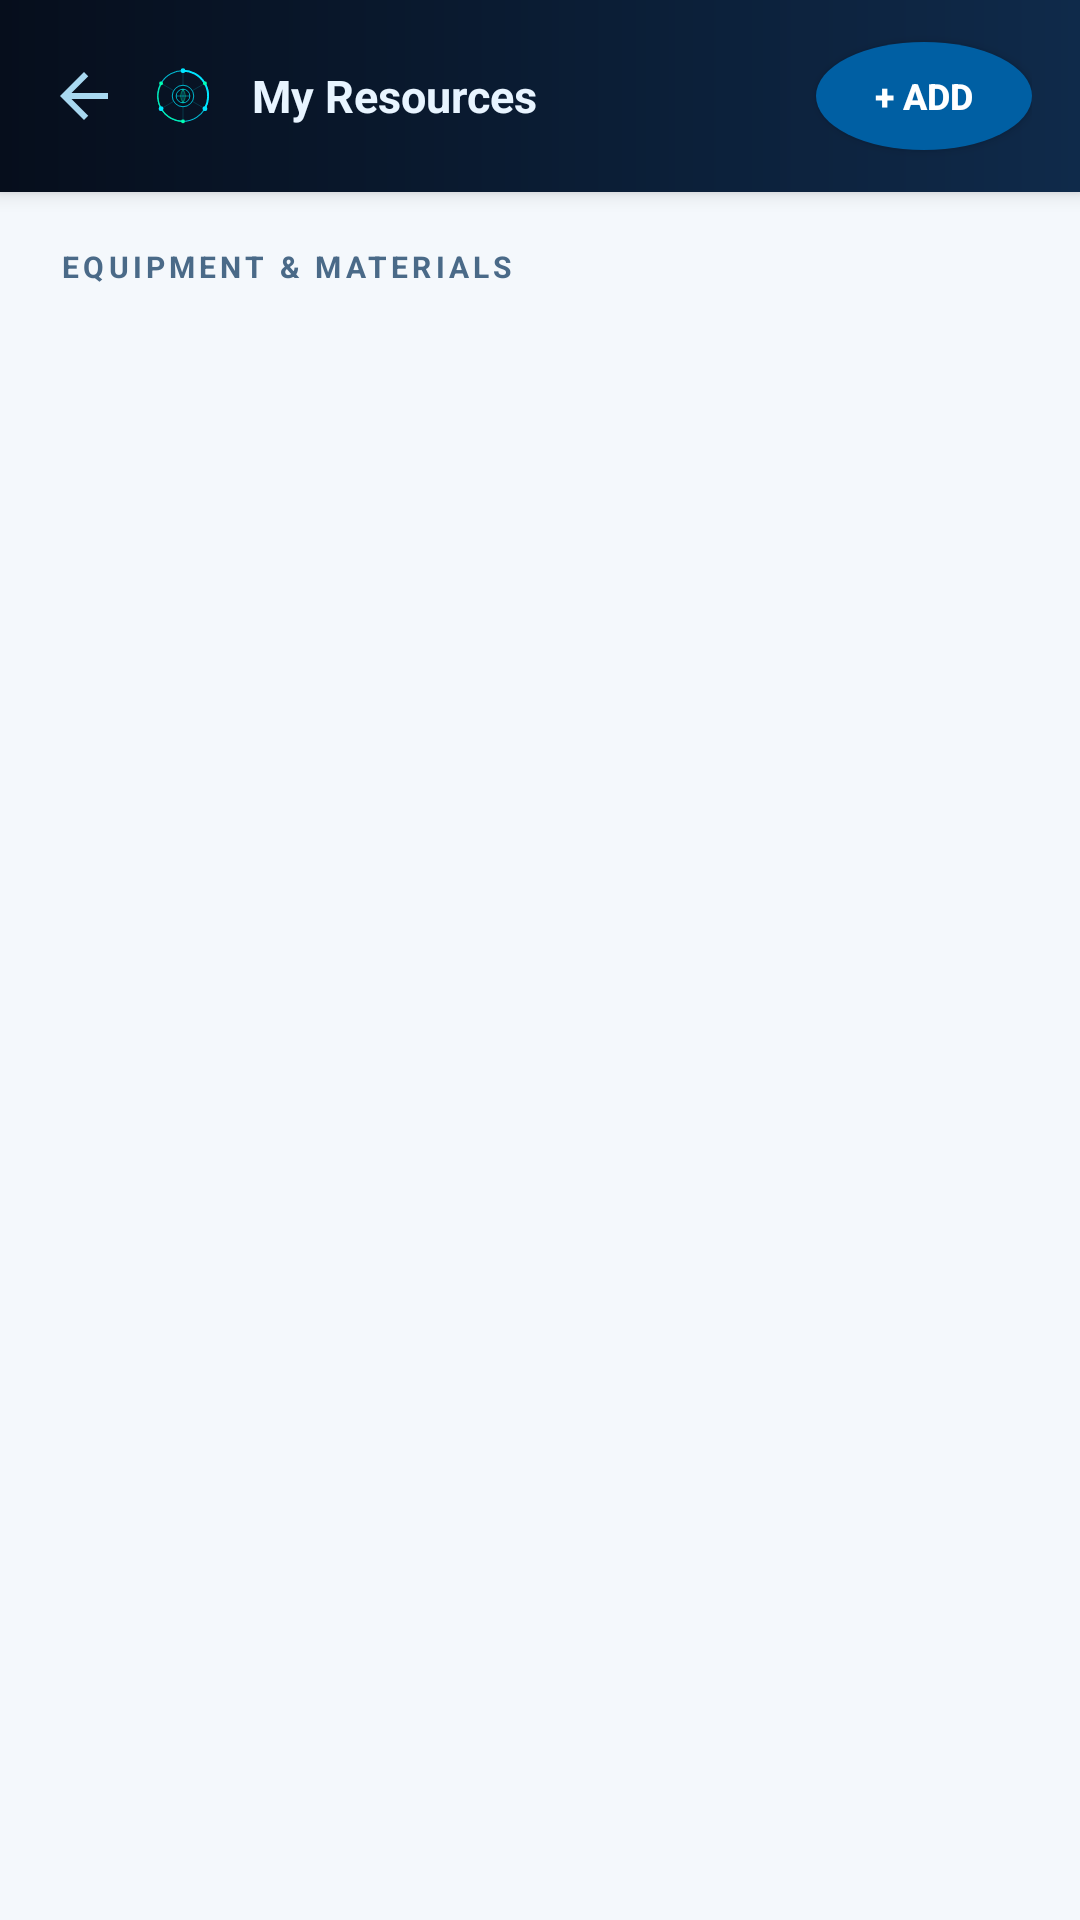

Icons on this 1080px×1920px Android screen, each with the point to tap as [x,y]:
Back: [84,96]
